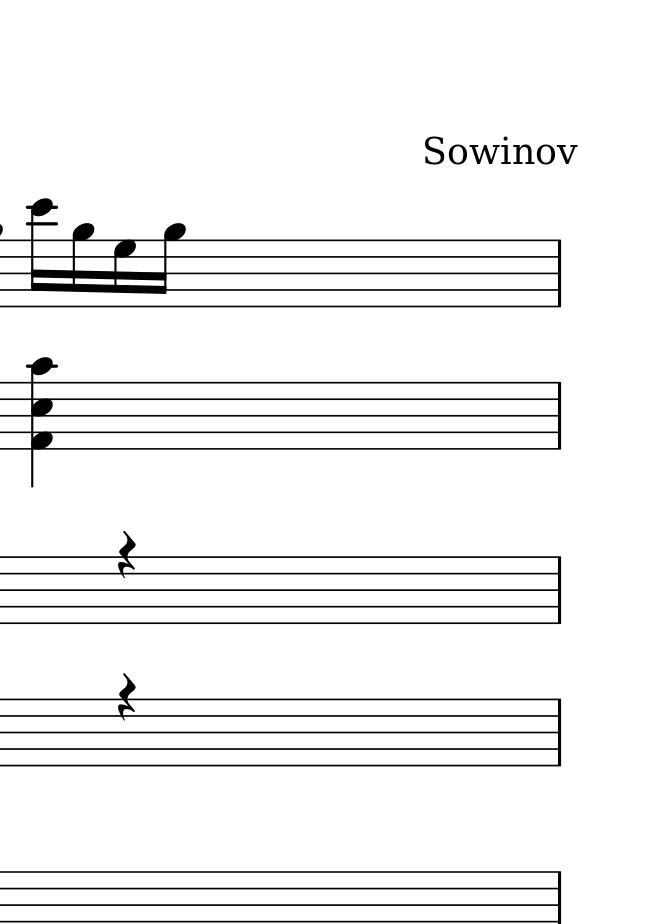16_12: (27, 197, 57, 309)
16_7: (110, 236, 136, 310)
16_9: (152, 221, 185, 309), (69, 221, 94, 310)
4_th: (26, 354, 58, 484)
Rests4: (115, 529, 137, 579), (116, 671, 137, 721)
Single_barline: (551, 241, 567, 307), (551, 699, 567, 765), (551, 383, 567, 448), (551, 557, 567, 622), (551, 871, 567, 923)
